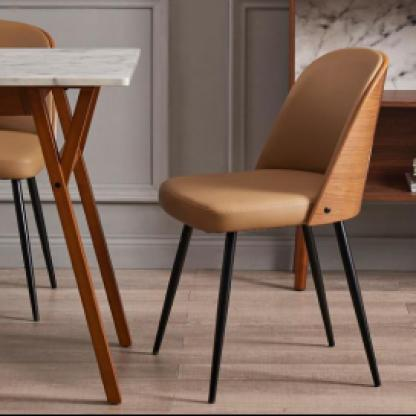chair: (147, 39, 402, 410), (0, 15, 62, 323)
table: (0, 44, 143, 399), (295, 90, 416, 296)
